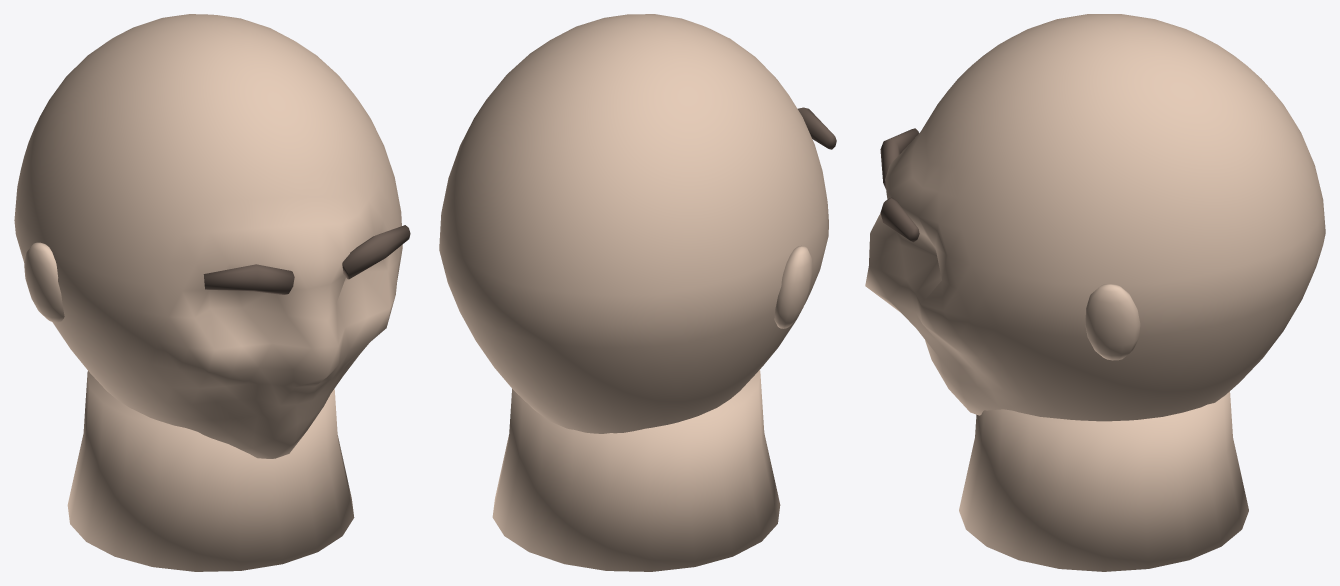
Rendered from opp_head.glb.
3 renders of one model, left to right at view 1: azimuth 30°, elevation 25°; view 2: azimuth 150°, elevation 25°; view 3: azimuth 270°, elevation 25°, orthographic.
Visible parts, largest first — view 1: SkinHead, SkinNeck, SkinEar_L, Brows_L, Brows_R; view 2: SkinHead, SkinNeck, SkinEar_L, Brows_L; view 3: SkinHead, SkinNeck, SkinEar_R, Brows_R, Brows_L.
Boxes of the visible parts, x1,y1,x2,y2 form: SkinHead: [14, 14, 402, 458]; SkinNeck: [67, 371, 354, 571]; SkinEar_L: [24, 242, 64, 322]; Brows_L: [203, 264, 294, 294]; Brows_R: [342, 225, 410, 279]; SkinHead: [439, 14, 828, 433]; SkinNeck: [492, 370, 780, 571]; SkinEar_L: [774, 245, 812, 328]; Brows_L: [798, 107, 836, 149]; SkinHead: [865, 14, 1325, 421]; SkinNeck: [959, 391, 1248, 571]; SkinEar_R: [1085, 284, 1140, 360]; Brows_R: [880, 197, 919, 242]; Brows_L: [880, 128, 918, 188].
Size of the model in its own units: 0.2028 by 0.264 by 0.2285.
